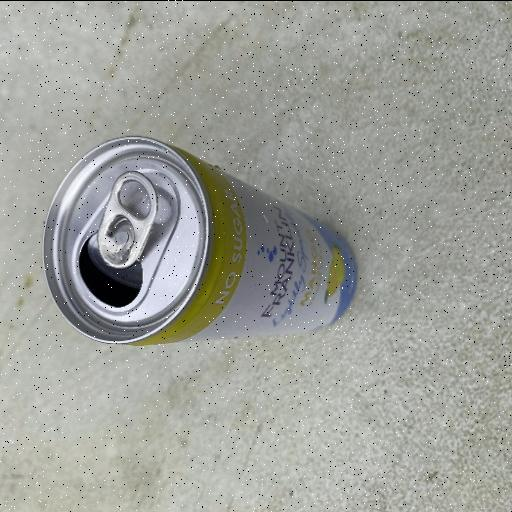Metal: (40, 133, 358, 349)
